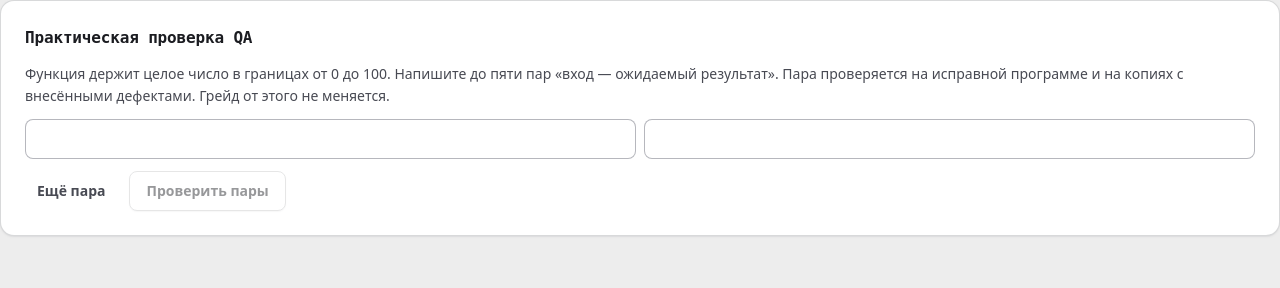
практическая проверка QA › показывает пойманные дефекты и не обещает смену грейда
This screenshot has width=1280, height=288.
Type "-1" into the field named "Вход 1" at point(330, 139), box [25, 119, 636, 159]
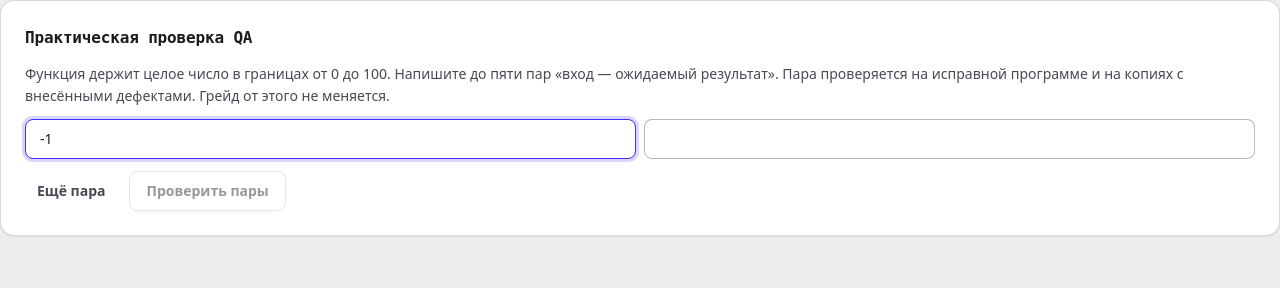
Type "0" into the field named "Ожидание 1" at point(950, 139), box [644, 119, 1255, 159]
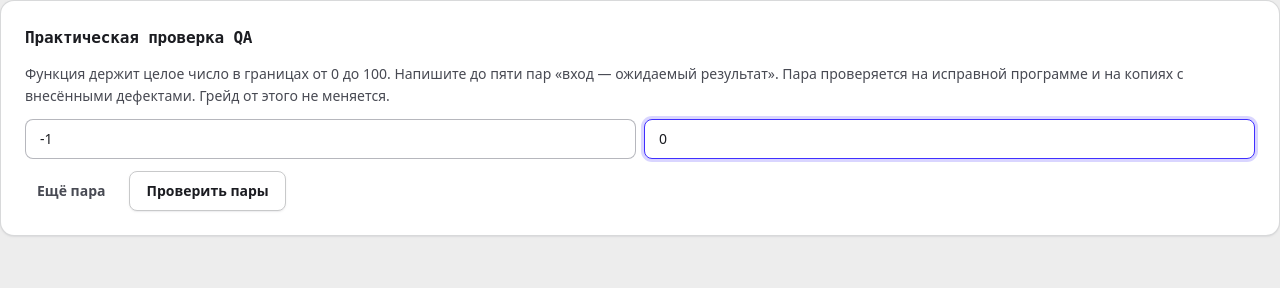
Click the button "Проверить пары" at point(208, 191), box [130, 171, 286, 211]
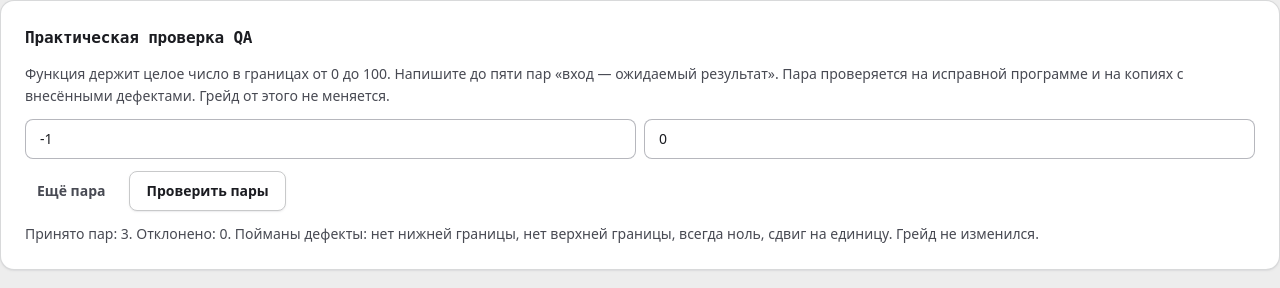
Expected: the message shows "Пойманы дефекты: нет нижней границы", [25, 224, 1039, 243]
Expected: the message shows "Грейд не изменился", [25, 224, 1039, 243]
